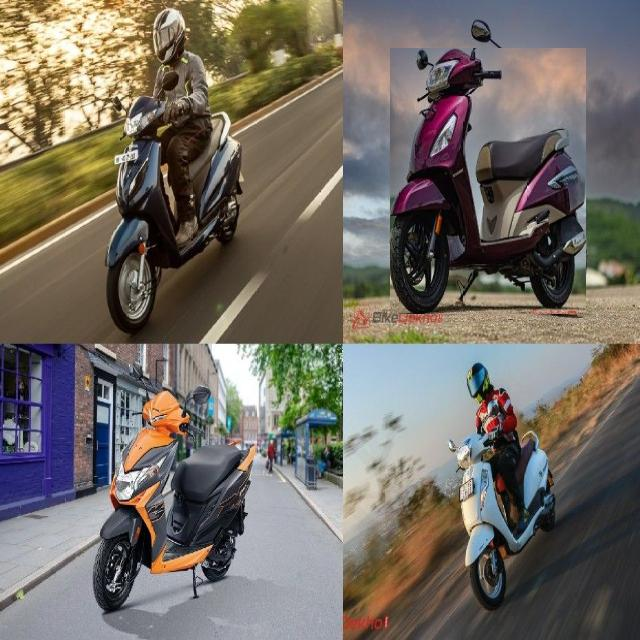motorcycle: (390, 49, 586, 314), (105, 9, 241, 334), (92, 390, 255, 611), (449, 364, 555, 609)
